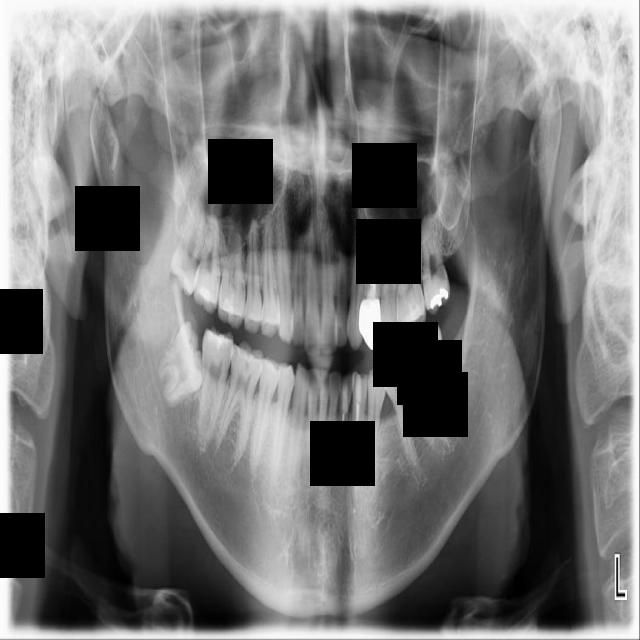3M ESPE Implant: (167, 202, 206, 298)
52: (379, 349, 419, 407), (406, 322, 448, 375), (197, 325, 236, 379), (358, 298, 382, 350), (423, 269, 450, 315), (380, 296, 400, 345), (337, 373, 354, 414), (352, 371, 369, 409)
73: (348, 406, 365, 510), (363, 214, 383, 299), (336, 408, 349, 481), (611, 556, 621, 584)
BioHorizons Implant: (414, 215, 453, 316)
Blue Sky Bio Implant: (404, 321, 467, 450)
Caries: (192, 217, 224, 314)
Implant: (194, 325, 235, 452)
Keystone Dental Implant: (147, 319, 213, 405)
